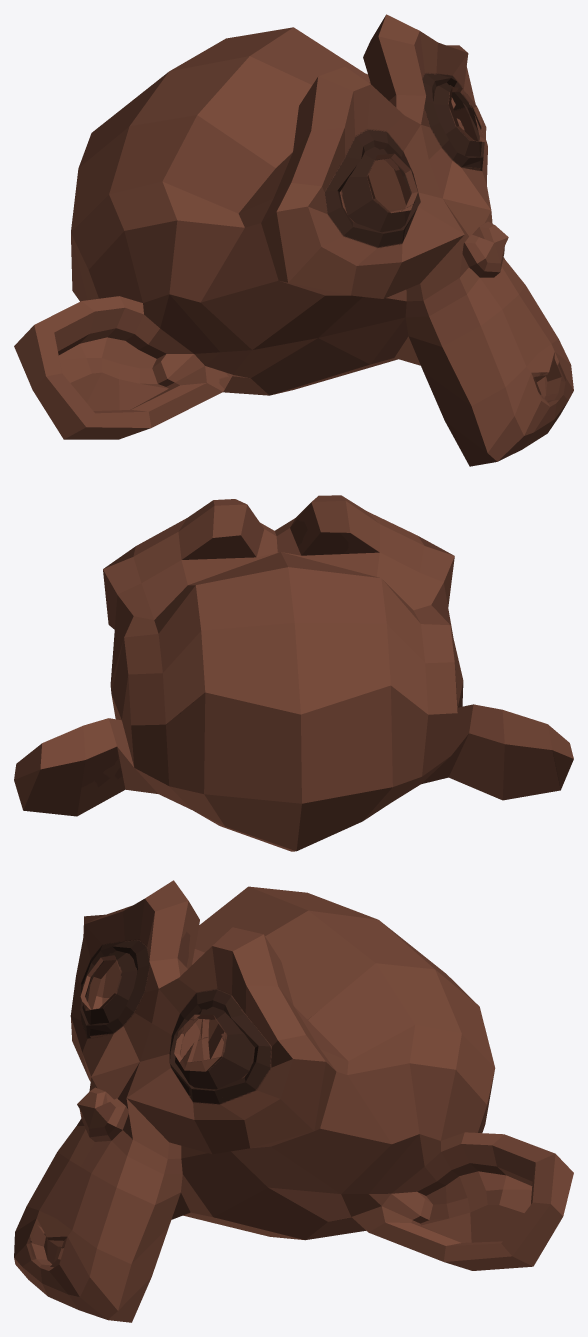
File: monkeyFBXDemo1.fbx
The picture shows the model from 3 angles, top to bottom: view 1: azimuth 30°, elevation 25°; view 2: azimuth 150°, elevation 25°; view 3: azimuth 270°, elevation 25°; orthographic projection. The views are drawn at different scales.
Visible parts, largest first — view 1: Suzanne.001; view 2: Suzanne.001; view 3: Suzanne.001.
Boxes of the visible parts, x1,y1,x2,y2 form: Suzanne.001: [14, 14, 573, 466]; Suzanne.001: [14, 495, 573, 851]; Suzanne.001: [14, 880, 573, 1322].
Size of the model in its own units: 30.97 by 21.38 by 30.83.
1 material, 1 textured.
